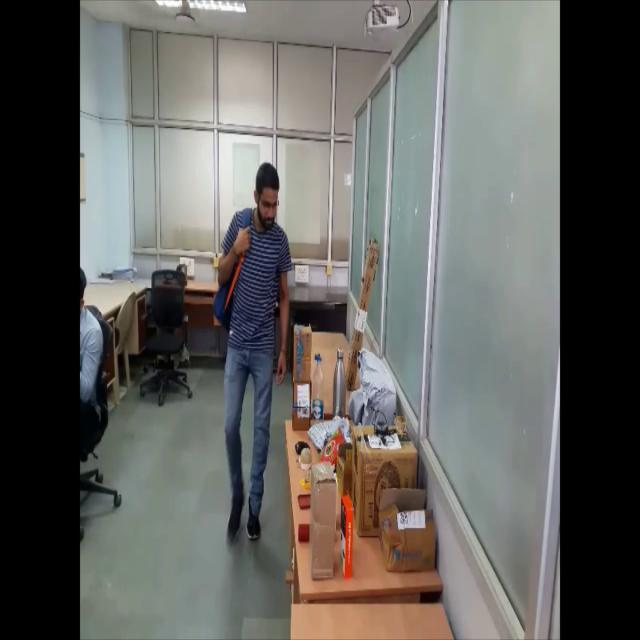normal: (209, 158, 295, 552)
